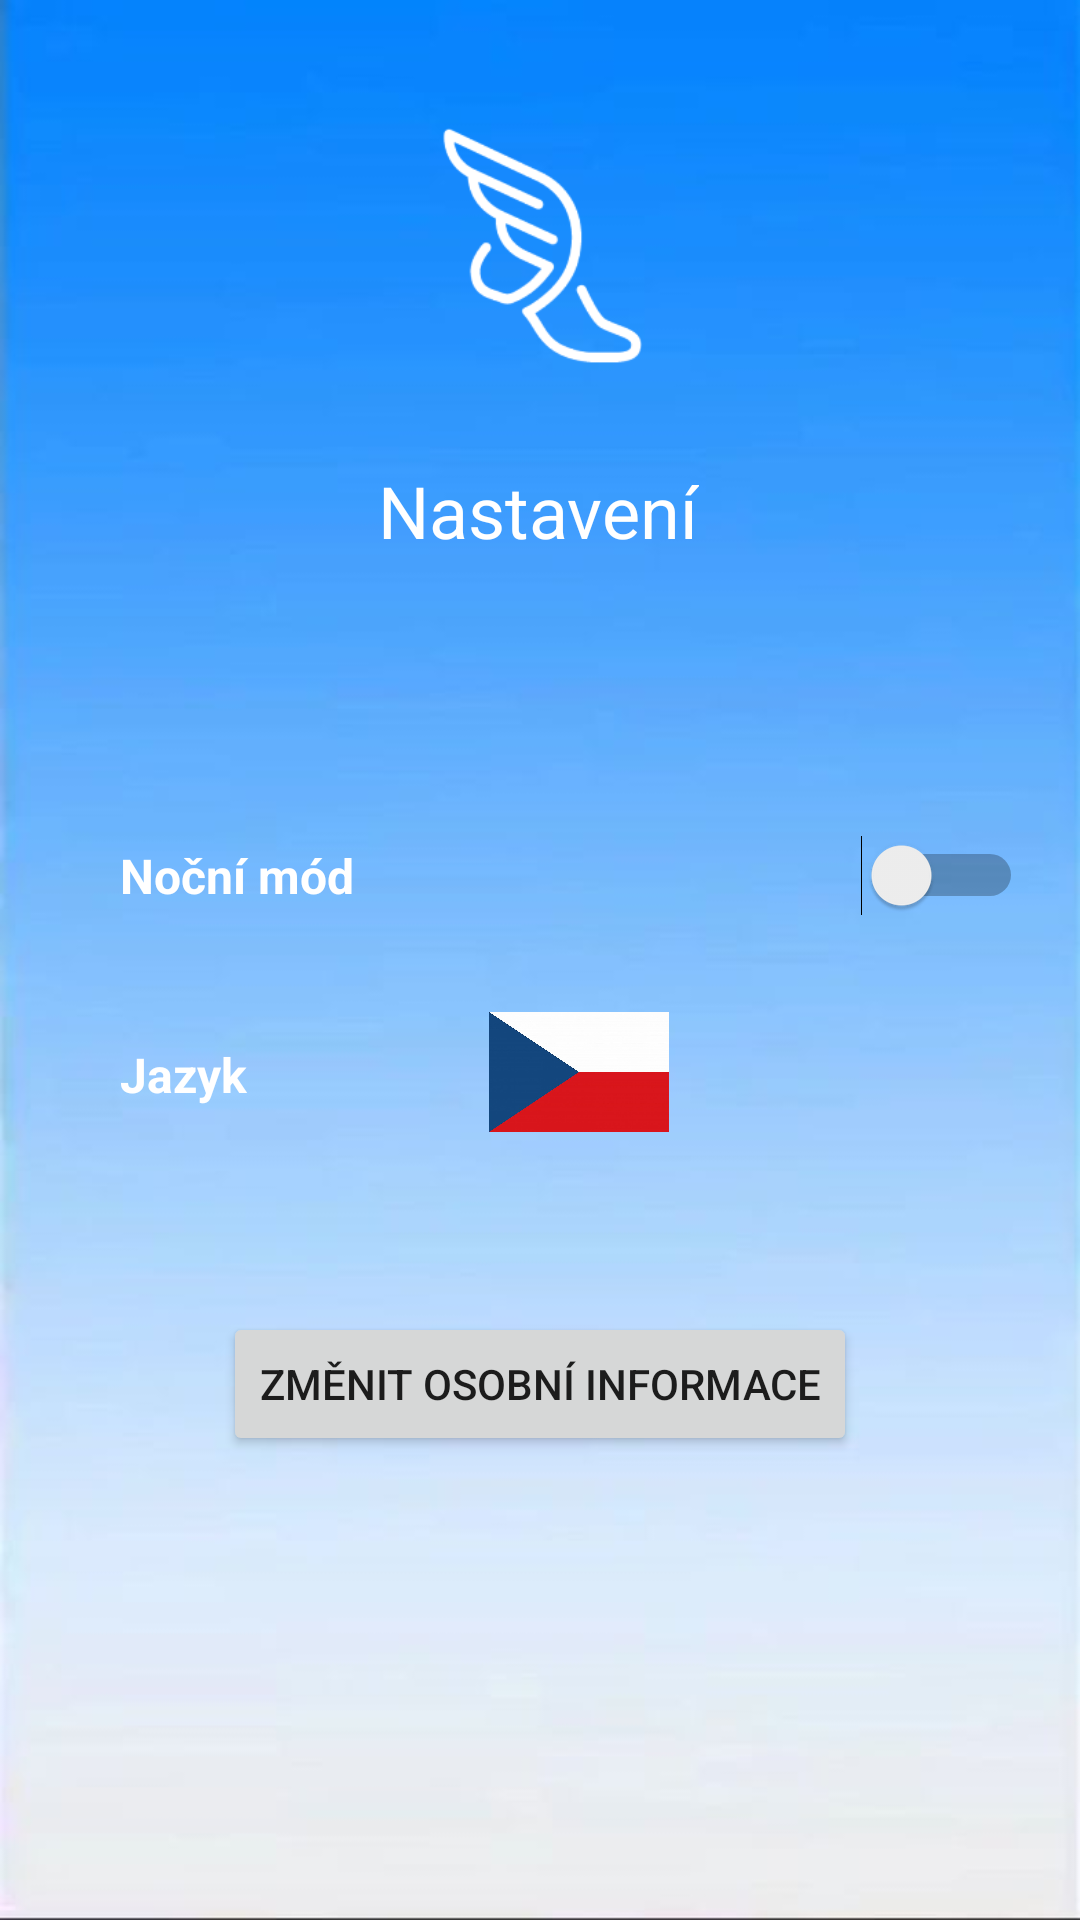

Screen size 1080*1920. Icon name, then its box in pixels as (x1, y1, x2, y2):
flag cz: (489, 1012, 669, 1132)
